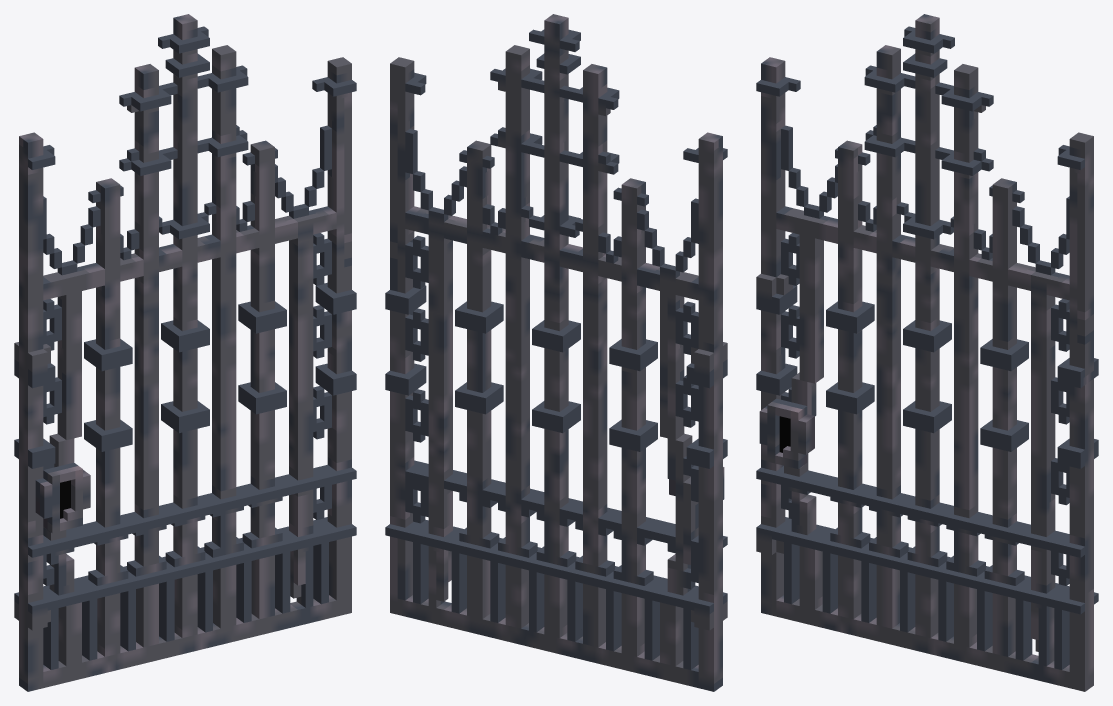
File: Entrance_Portal-1.fbx
3 views of the same model, side by side, from view 1: azimuth 30°, elevation 25°; view 2: azimuth 150°, elevation 25°; view 3: azimuth 330°, elevation 25° (orthographic).
Visible parts, largest first — view 1: Entrance_Portal-1; view 2: Entrance_Portal-1; view 3: Entrance_Portal-1.
Boxes of the visible parts, box(x1,y1,x2,y2) form: Entrance_Portal-1: box(14, 14, 356, 691); Entrance_Portal-1: box(385, 14, 727, 691); Entrance_Portal-1: box(756, 14, 1098, 691).
Size of the model in its own units: 210 by 390 by 25.
